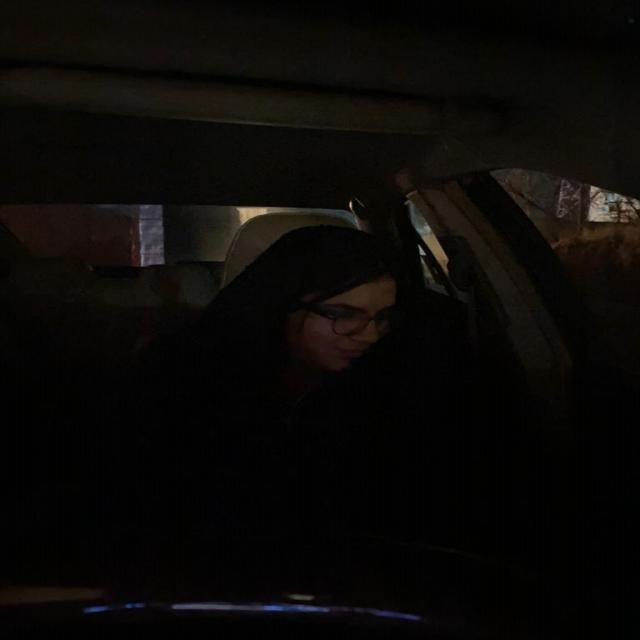drowsy: (259, 236, 402, 383)
